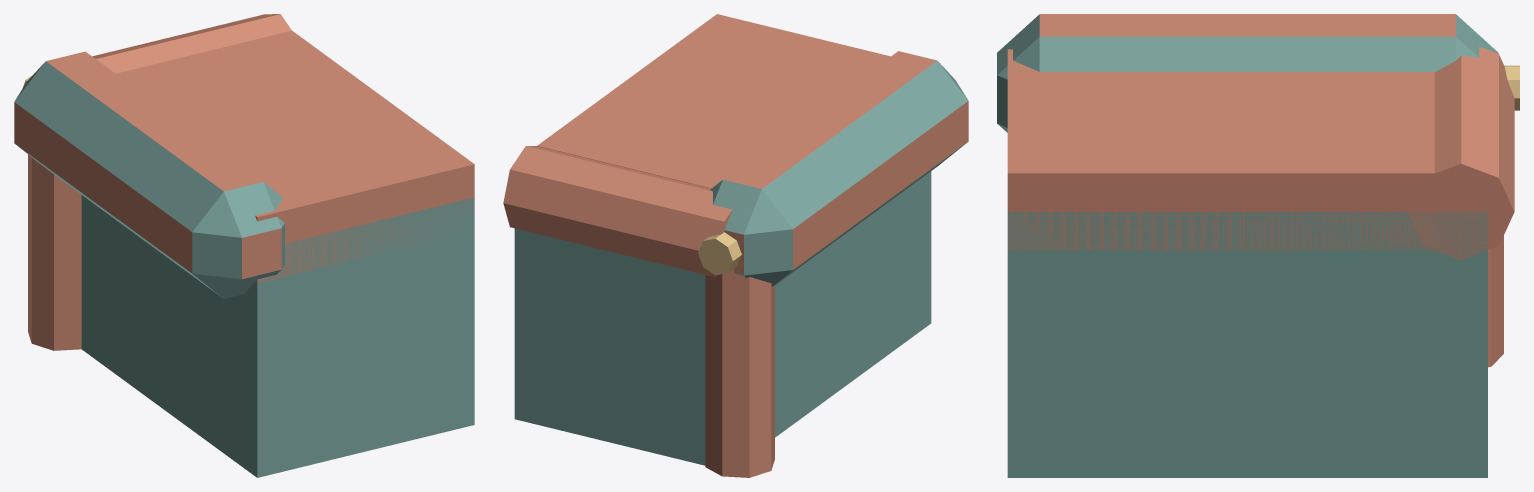
The model's file is TH_Tile_1.fbx.
3 views of the same model, side by side, from view 1: azimuth 30°, elevation 25°; view 2: azimuth 150°, elevation 25°; view 3: azimuth 270°, elevation 25° (orthographic). The views are drawn at different scales.
Parts seen in each view (by area): view 1: TH_Tile_1; view 2: TH_Tile_1; view 3: TH_Tile_1.
Part boxes in pixels (x1,y1,x2,y2): TH_Tile_1: [14, 14, 474, 477]; TH_Tile_1: [503, 14, 968, 477]; TH_Tile_1: [997, 14, 1519, 477].
Bounding box in the file's own units: 0.68 × 0.68 × 0.98.
